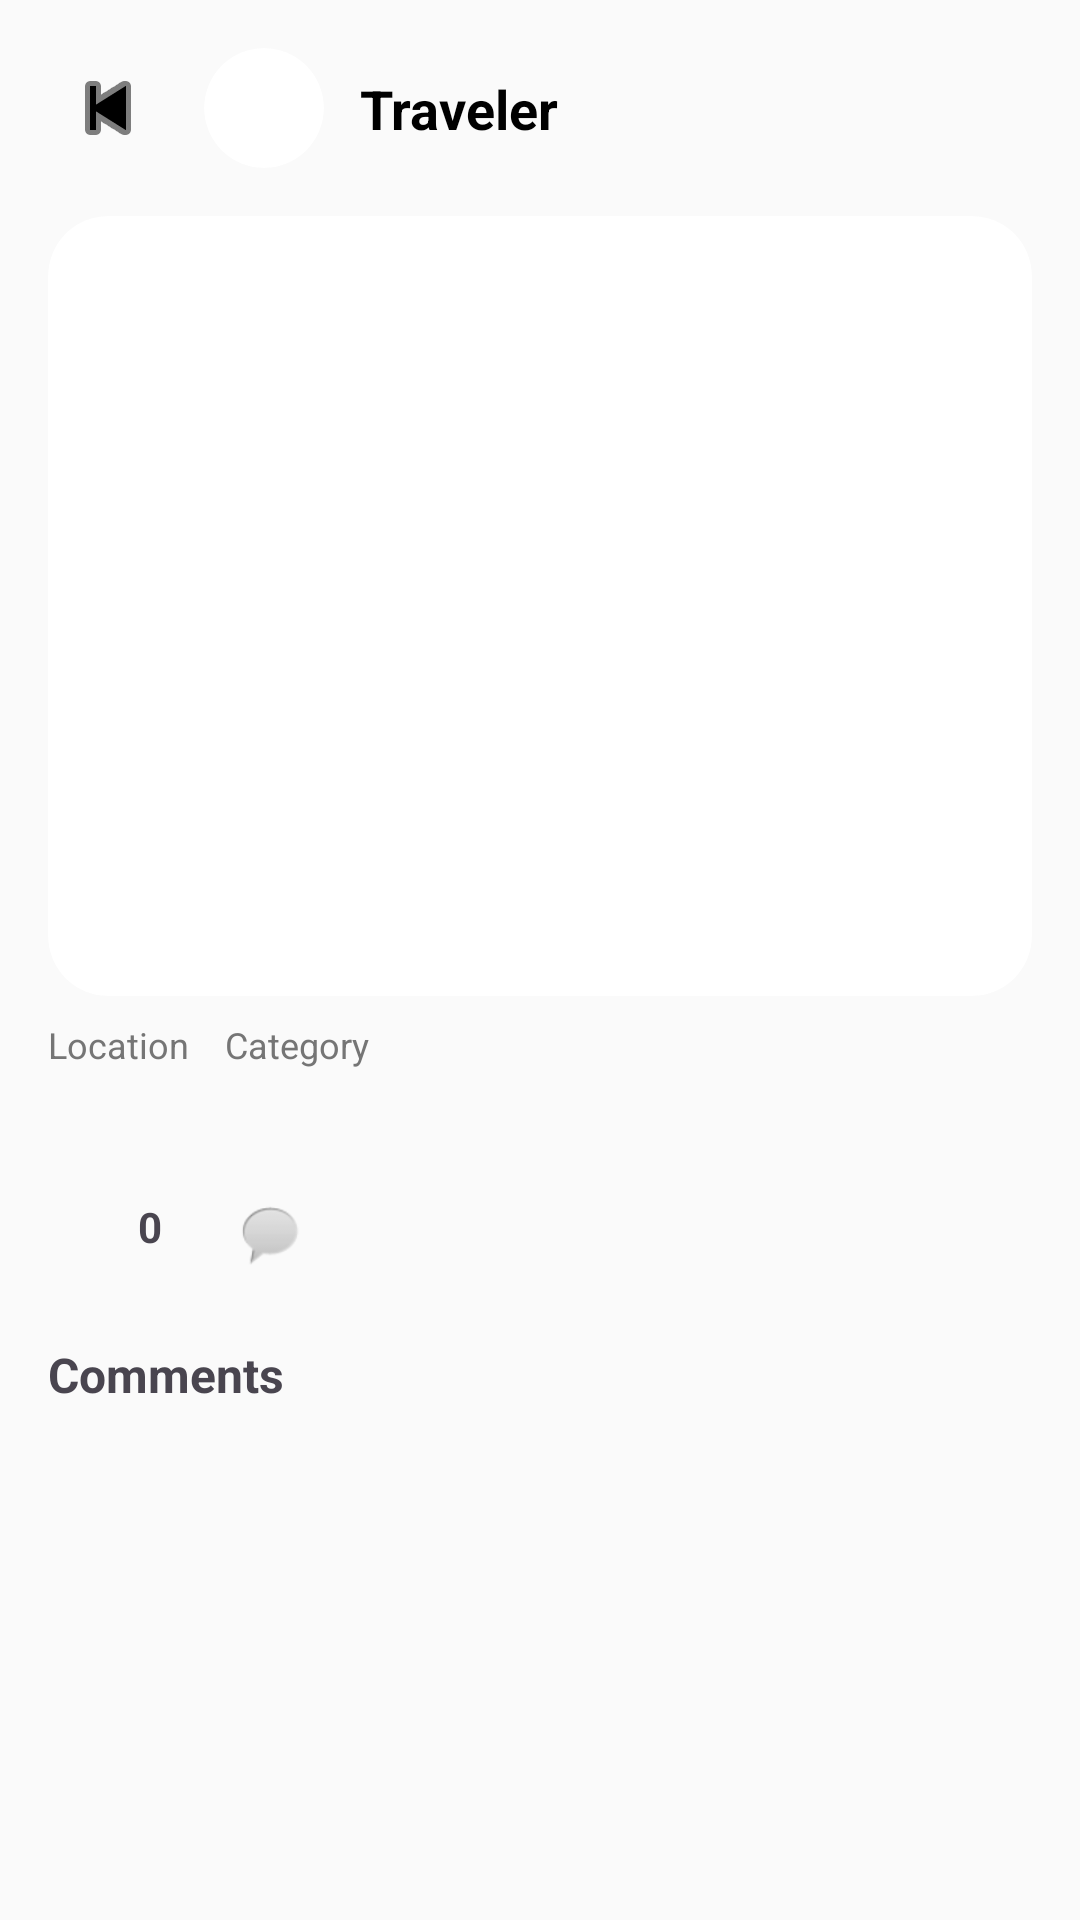

Icons on this 1080×1920 Android screen, each with its box as bbox=[x1, y1, x2, y2]:
previous: bbox=[85, 81, 131, 135]
sym action chat: bbox=[243, 1207, 297, 1264]
